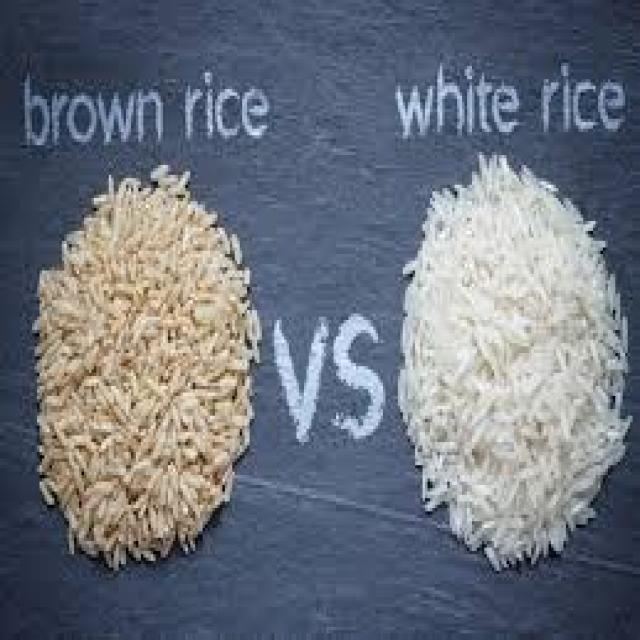White Rice: (403, 196, 628, 553)
